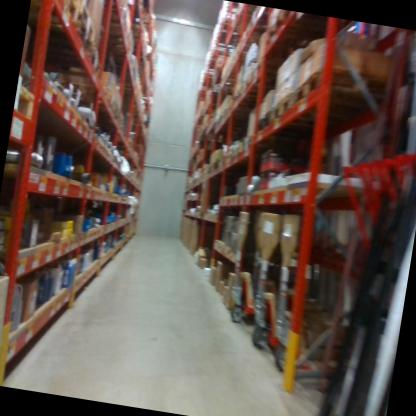pallet: (291, 61, 394, 136), (271, 88, 386, 143), (20, 26, 109, 81), (253, 103, 342, 147), (27, 7, 105, 46), (30, 0, 81, 22)
pallet_truck: (216, 205, 360, 375), (255, 209, 385, 383)
